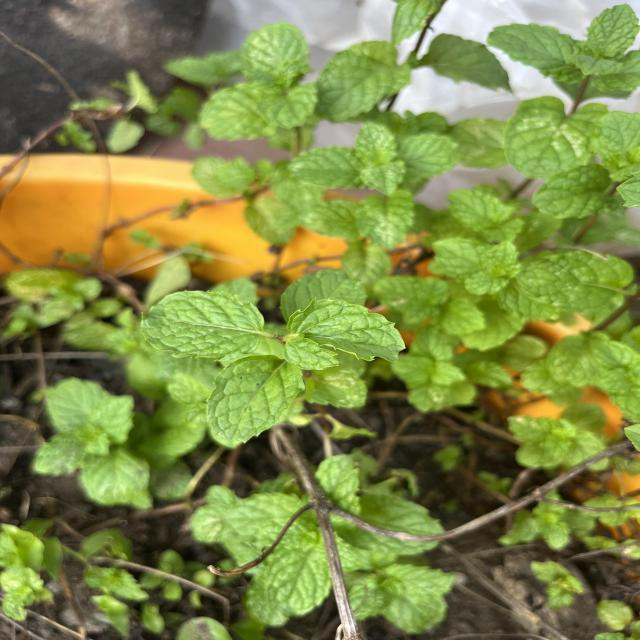Mentha spicata: (140, 288, 267, 364), (206, 354, 306, 446)
